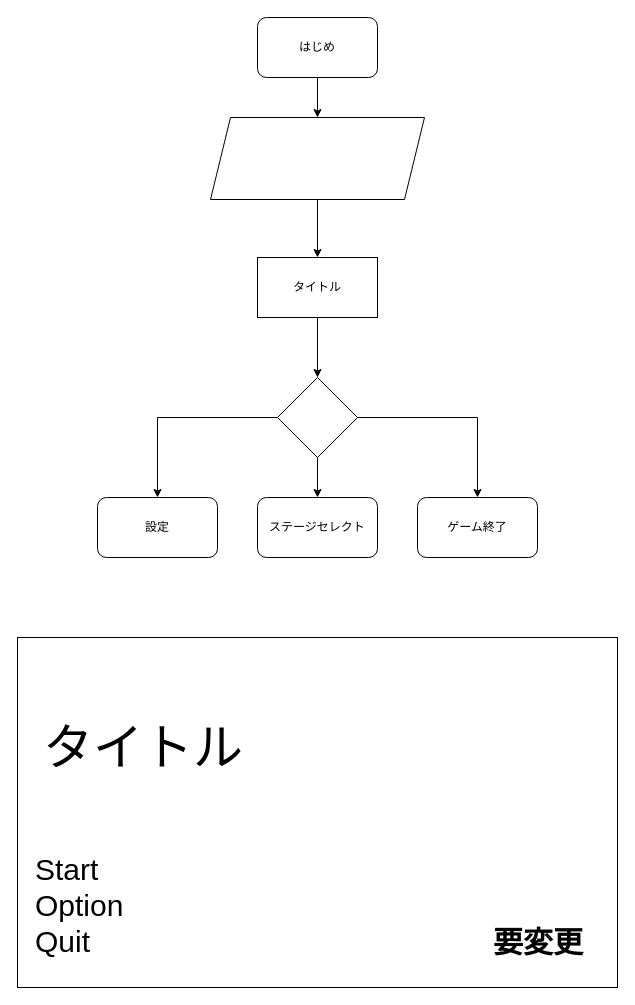
Some shapes in this 635 by 1005 pixel diagram are drawn without their labels. Here are the shapes that lost their labels. From the top down, the centre of each, then its label:
At (x=317, y=158): "セーブファイル、設定ファイル 読み込み".
At (x=317, y=417): "選択肢".
